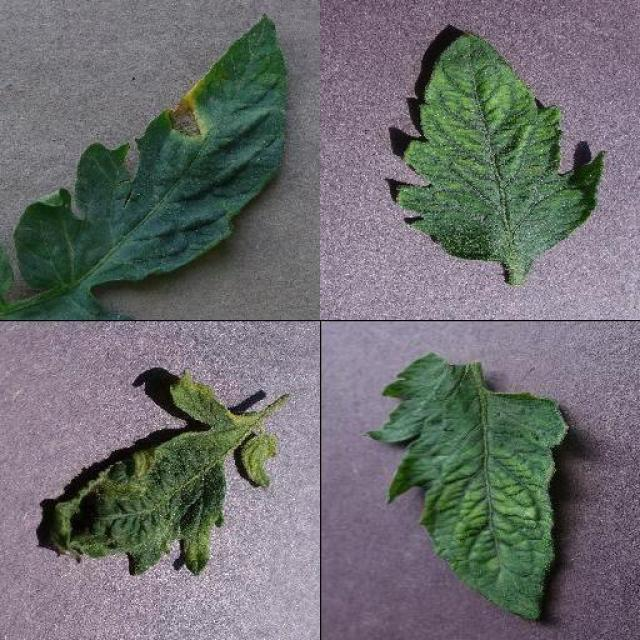Early Blight: (15, 16, 291, 288)
